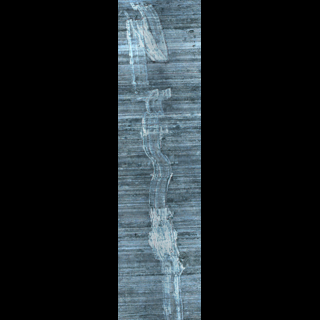d: (123, 2, 189, 320)
